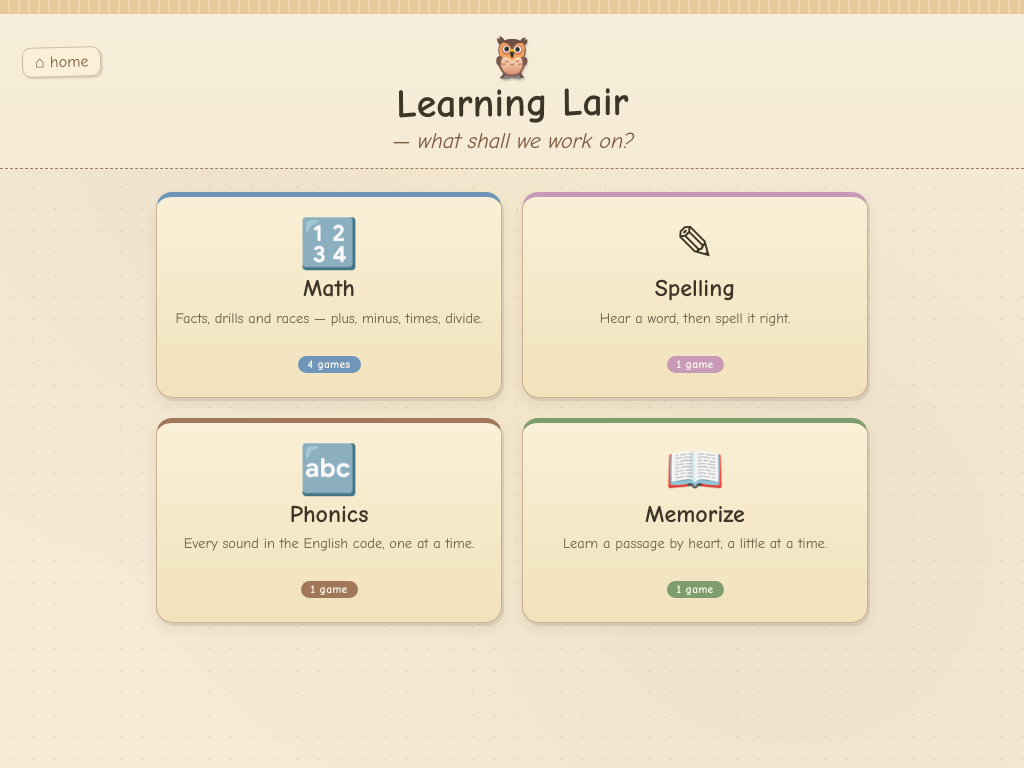
Test: Dragon Memorize rendered experience › shows Dragon Memorize in the Learning Lair while Lava Leap stays hidden
Click the button with aria-label "Memorize games": (695, 520) [522,418,868,623]
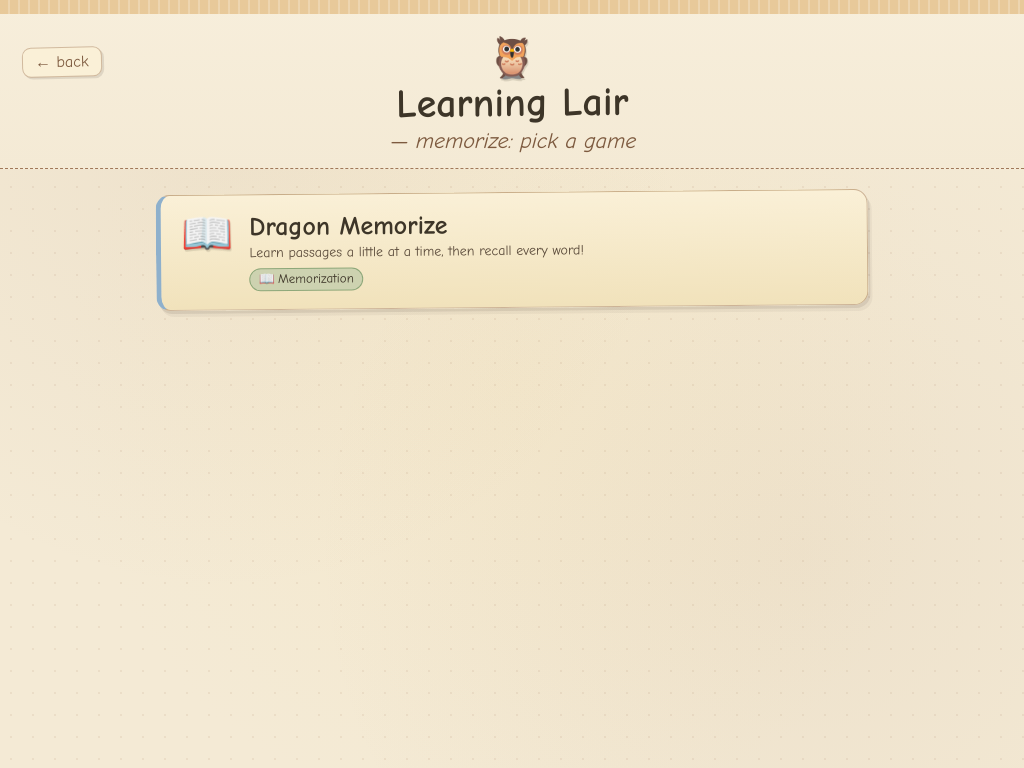
Expected: the button with aria-label "Play Dragon Memorize" is shown, [156,189,868,311]
